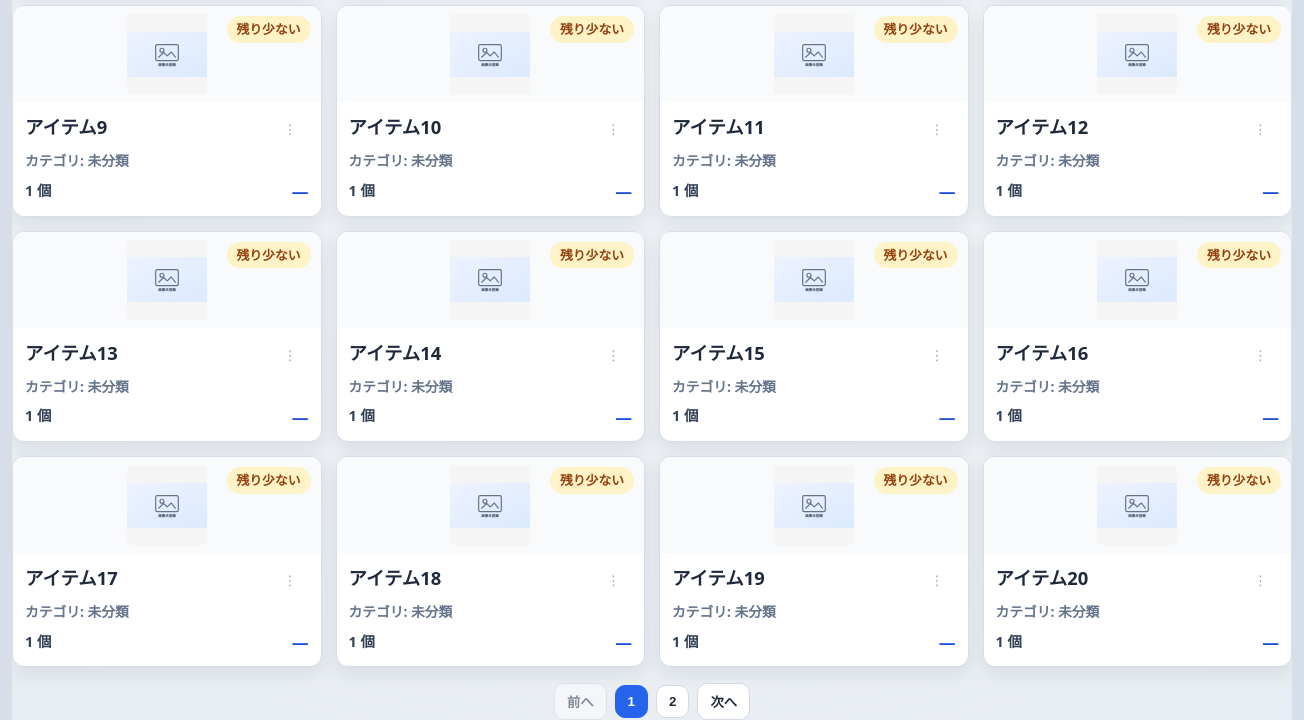
Test: ItemListPage › ページングボタンで次のページを取得できる
(page scrolled)
Step 1. Click the button "次へ" → coordinates (724, 702), box [697, 683, 750, 719]
(page scrolled)
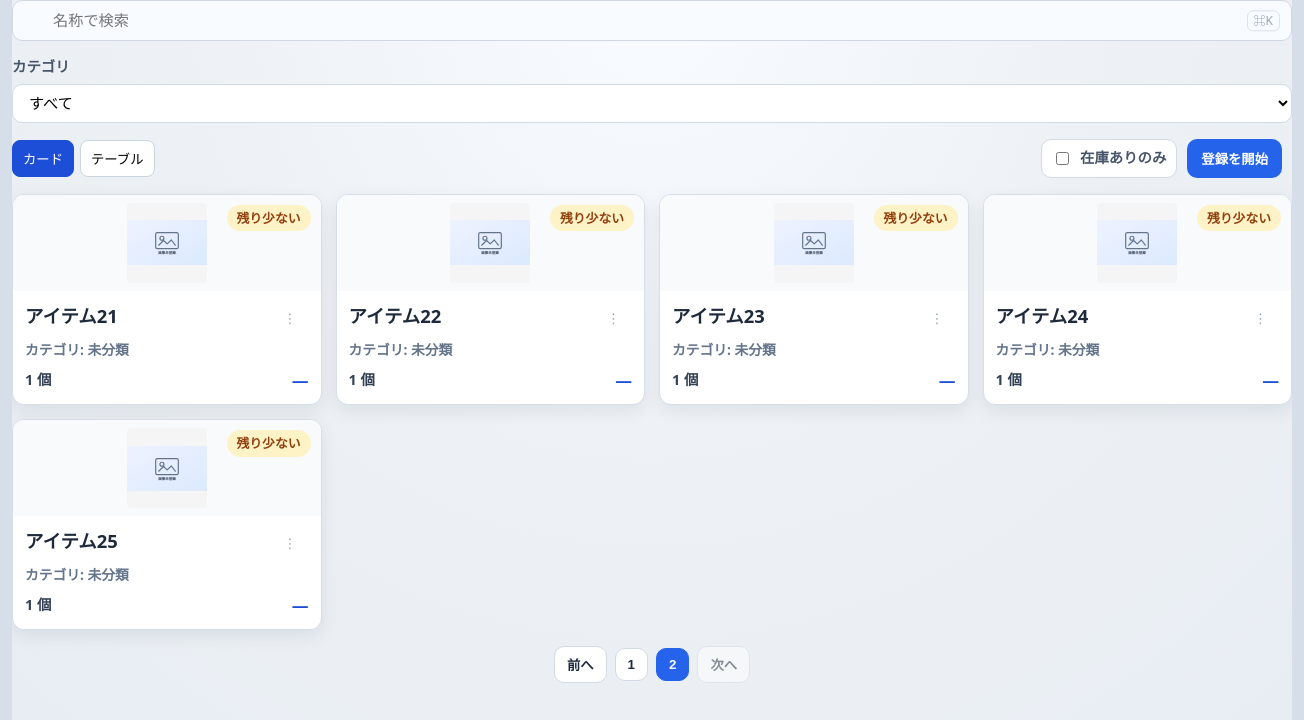
Expected: the text "アイテム21" is shown, [25, 303, 118, 330]
